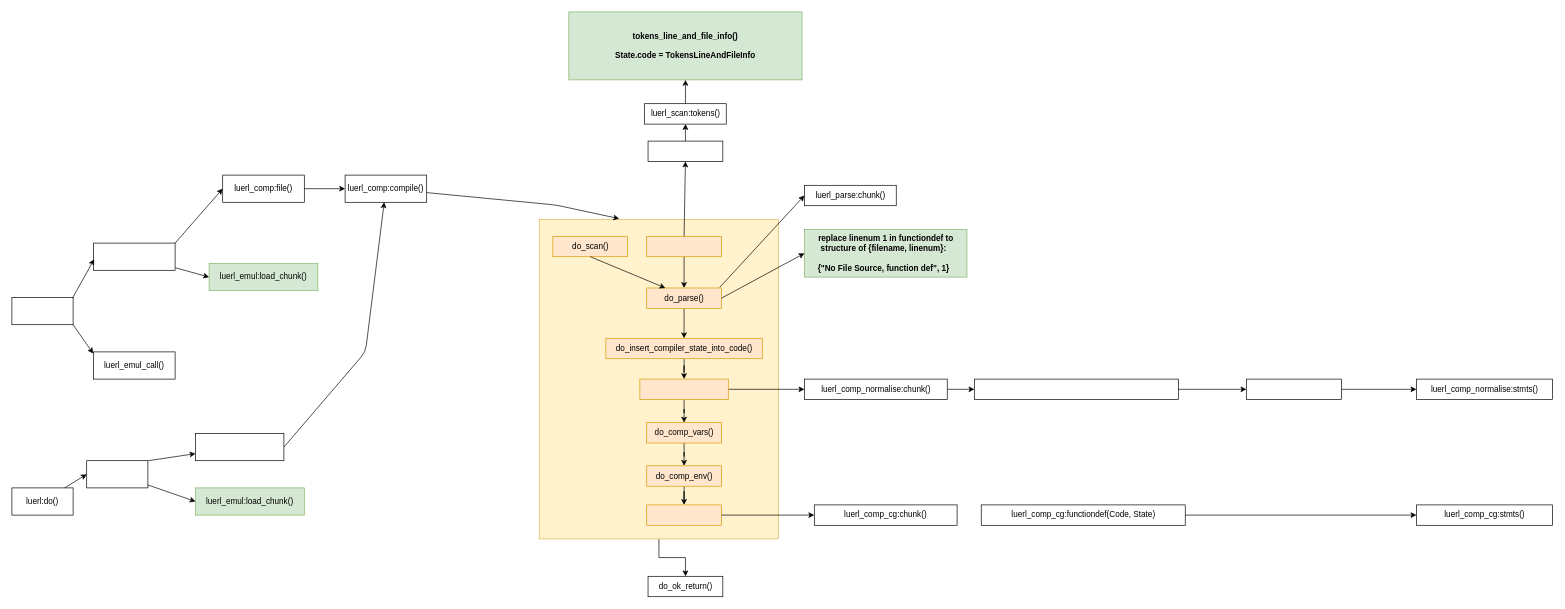
Some shapes in this 1565 by 609 pixel diagram are drawn without their labels. Each missing label, with the centre of its shape:
do_code_gen(): (683,514)
do_comp_normalise(): (683,389)
do_read_file(): (683,246)
functionblock(): (1294,389)
io:request(): (685,151)
load(): (117,474)
luerl:dofile(): (42,311)
luerl:loadfile(): (134,256)
luerl_comp:string(): (239,447)
luerl_comp_normalise:functiondef(Code, State): (1076,389)
